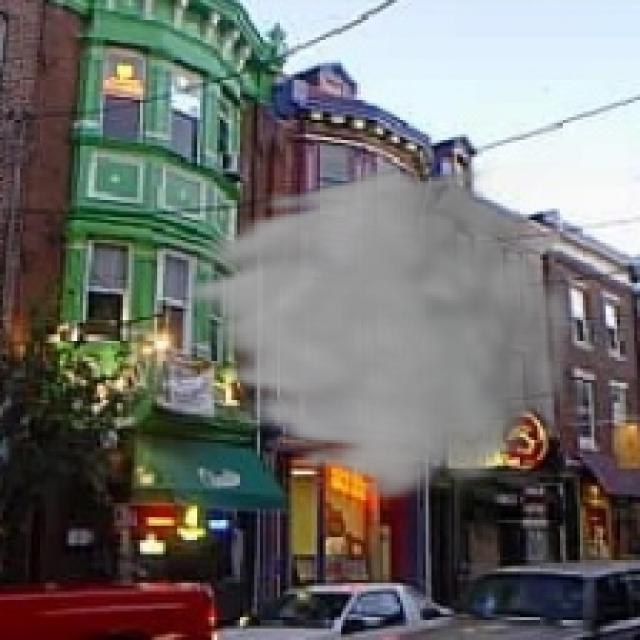Smoke: (163, 163, 583, 506)
